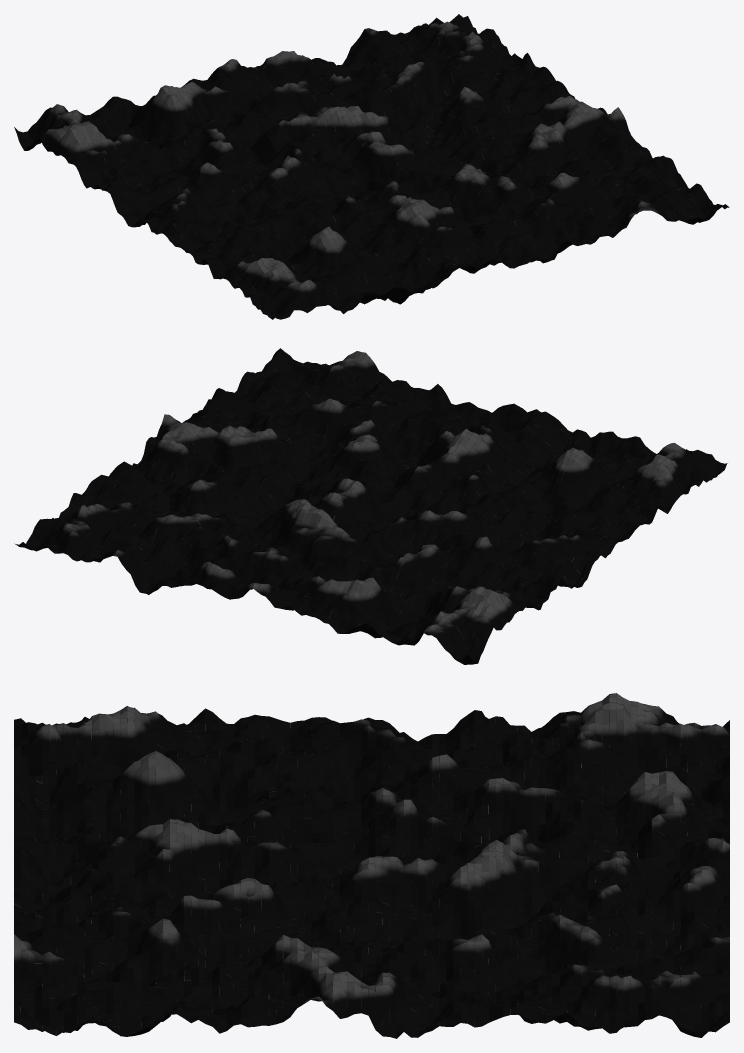
Rendered from ground.gltf.
The picture shows the model from 3 angles, top to bottom: view 1: azimuth 30°, elevation 25°; view 2: azimuth 150°, elevation 25°; view 3: azimuth 270°, elevation 25°; orthographic projection. The views are drawn at different scales.
Parts seen in each view (by area): view 1: Plane; view 2: Plane; view 3: Plane.
Boxes of the visible parts, x1=… form: Plane: x1=14, y1=14, x2=729, y2=319; Plane: x1=14, y1=348, x2=727, y2=664; Plane: x1=14, y1=693, x2=729, y2=1038.
Bounding box in the file's own units: 2 × 0.2326 × 2.
1 material, 1 textured.
